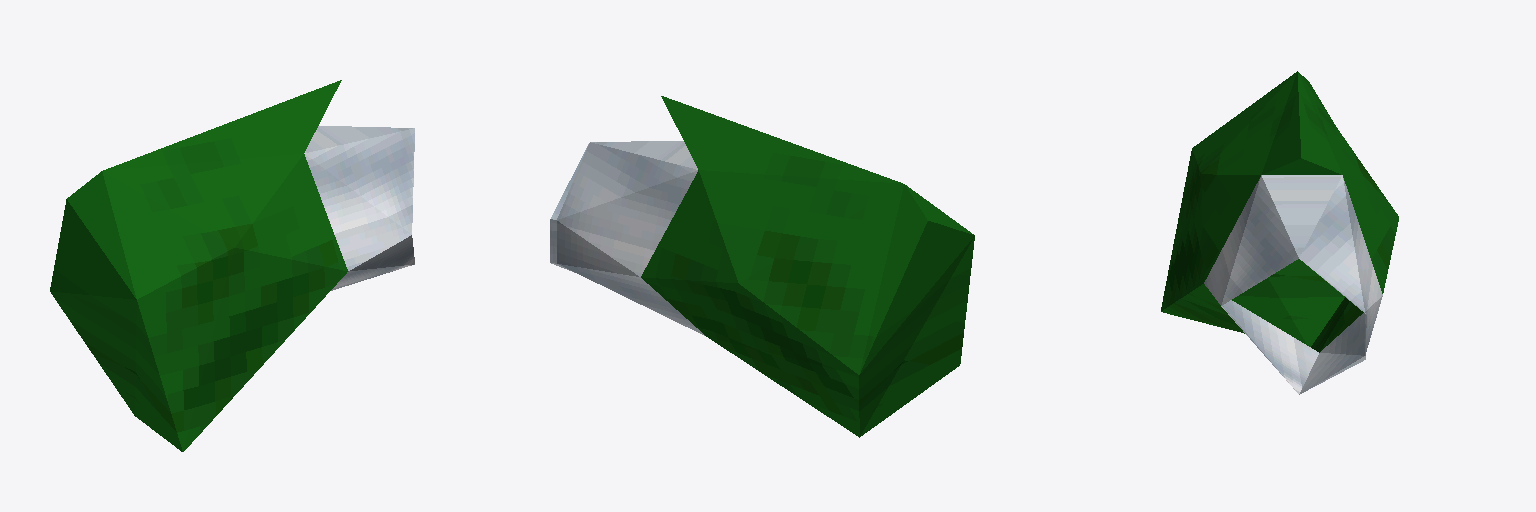
The picture shows the model from 3 angles: view 1: azimuth 30°, elevation 25°; view 2: azimuth 150°, elevation 25°; view 3: azimuth 270°, elevation 25°; orthographic projection.
Visible parts, largest first — view 1: AdultLink; view 2: AdultLink; view 3: AdultLink.
Boxes of the visible parts, x1,y1,x2,y2 form: AdultLink: [50, 80, 414, 451]; AdultLink: [550, 96, 974, 437]; AdultLink: [1161, 71, 1398, 394].
Size of the model in its own units: 1.95 by 1.54 by 1.15.
2 materials, 2 textured.